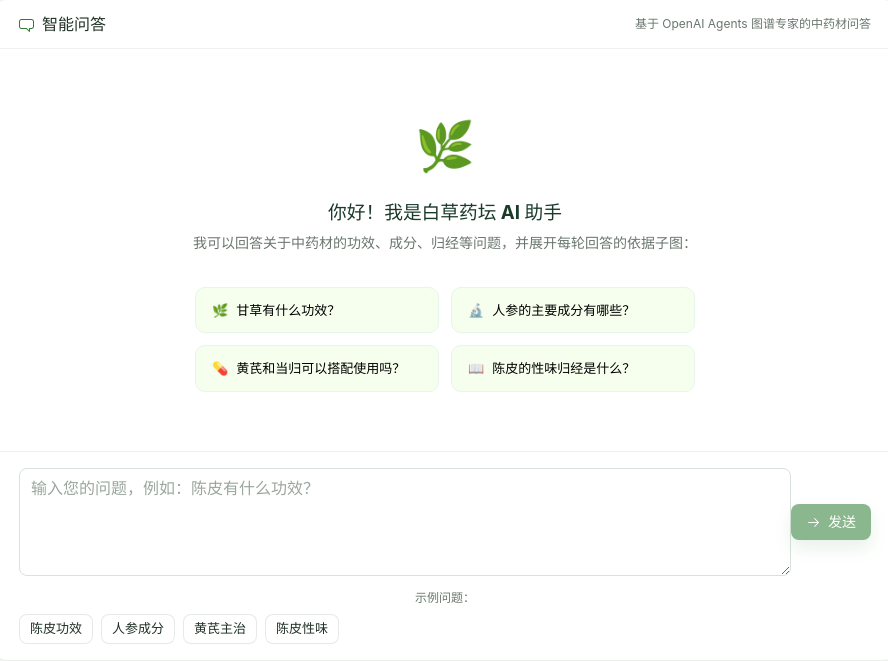
Test case: ChatPage › does not render reasoning panel when provider reasoning is absent
The width and height of the screenshot is (888, 661).
Type "外寒入里怎么办" into the text box with placeholder "输入您的问题，例如：陈皮有什么功效？" at point(405, 522), box x1=19 y1=468 x2=791 y2=576
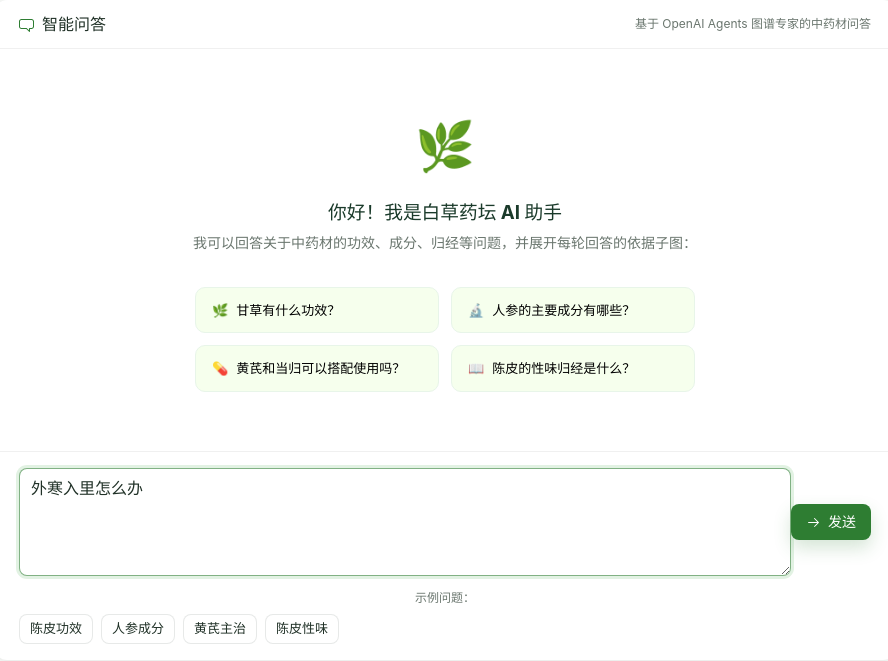
Click the button "发送" at point(831, 522), box x1=791 y1=504 x2=871 y2=540
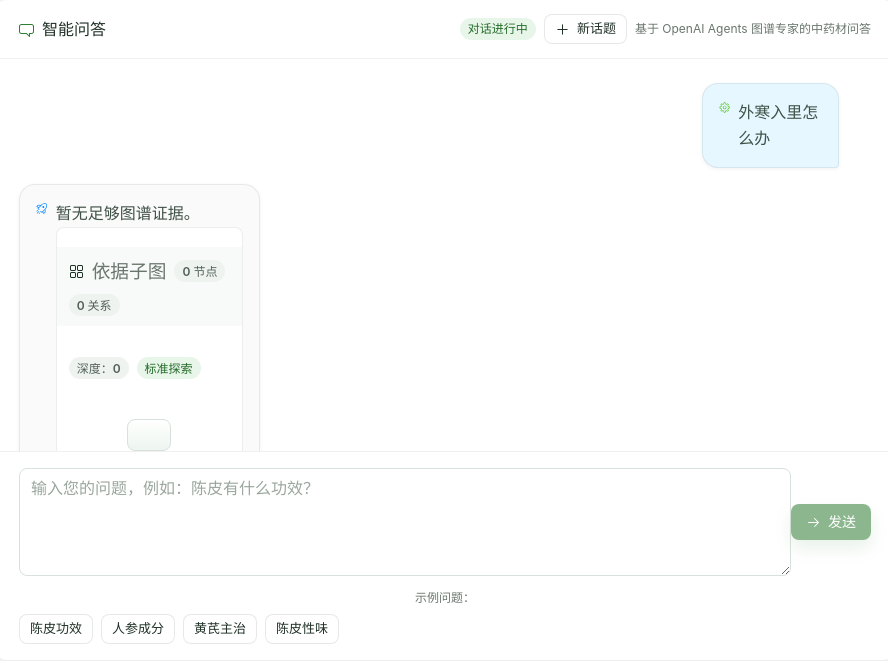
expect the text "暂无足够图谱证据。" is shown: met, box x1=56 y1=203 x2=200 y2=223
